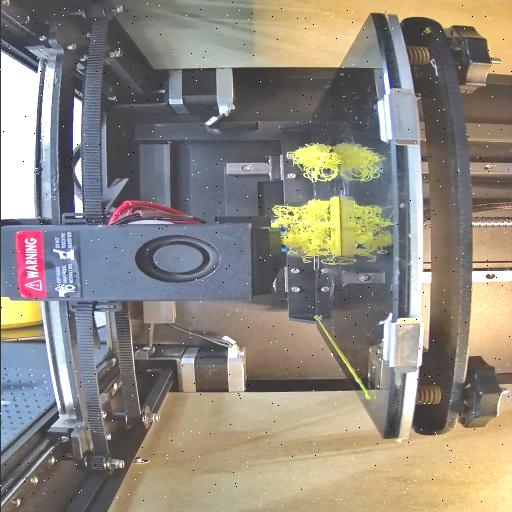spaghetti: (272, 200, 330, 258), (278, 142, 338, 180)
